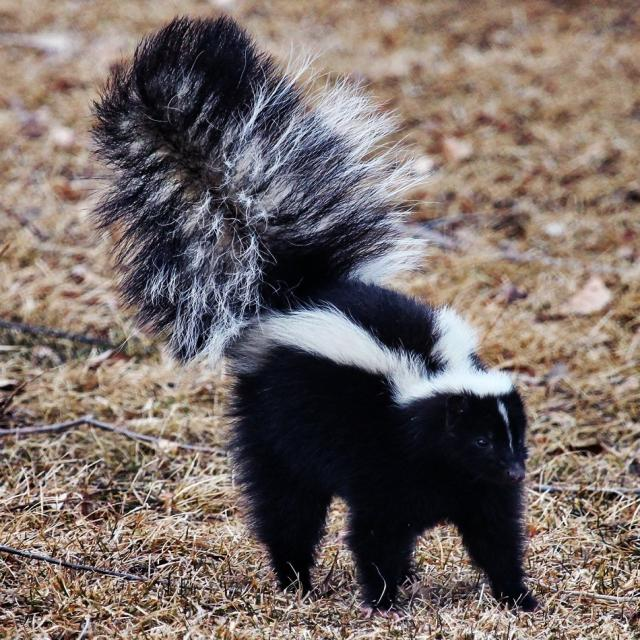Skunk: (103, 0, 571, 633)
